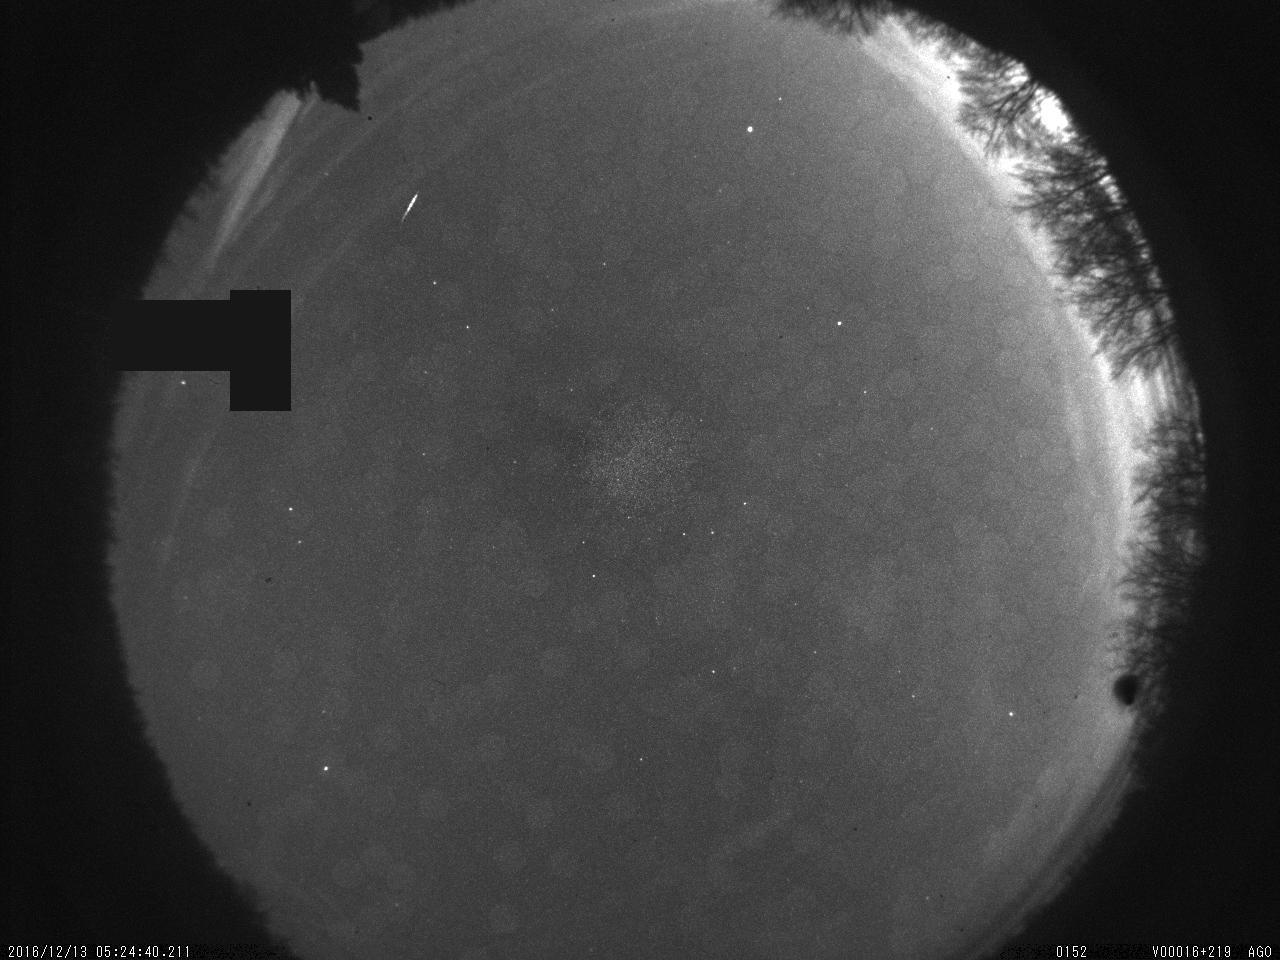meteor: (398, 185, 424, 228)
